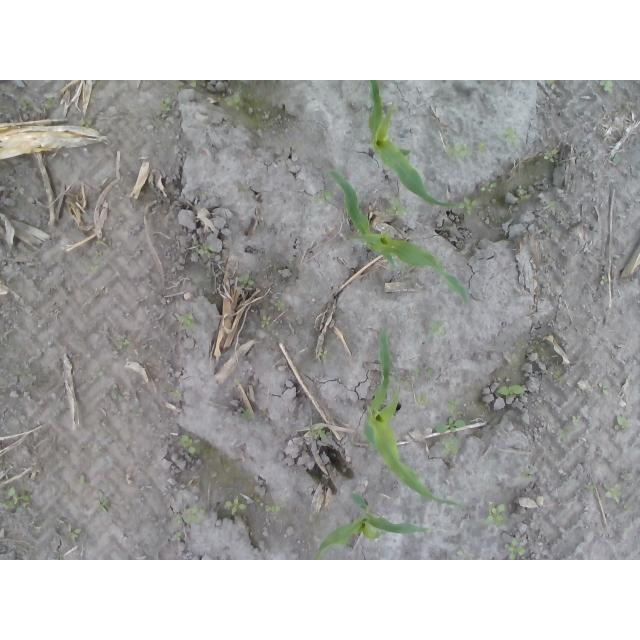Maize: (326, 166, 471, 307), (362, 327, 465, 510), (367, 81, 460, 212), (315, 490, 429, 560)
Weeds: (0, 486, 32, 514), (173, 506, 207, 527), (178, 434, 206, 458), (486, 501, 507, 527), (504, 538, 528, 560), (224, 496, 249, 517), (435, 416, 465, 433), (380, 199, 408, 217), (456, 196, 480, 216), (446, 143, 471, 162), (559, 415, 577, 441), (603, 481, 621, 503), (312, 189, 333, 207), (440, 438, 458, 458), (497, 384, 526, 396), (311, 423, 332, 439), (503, 127, 518, 149), (223, 95, 241, 113), (237, 272, 257, 288), (176, 311, 193, 329), (447, 398, 463, 417), (67, 524, 81, 545), (432, 320, 449, 337), (615, 415, 632, 432), (600, 80, 617, 97), (96, 497, 113, 514), (17, 99, 34, 114), (544, 149, 560, 164), (413, 366, 433, 378), (113, 337, 129, 352), (7, 192, 21, 209), (512, 191, 532, 202), (159, 96, 171, 113), (197, 242, 211, 256), (241, 408, 256, 421), (614, 150, 626, 166), (480, 182, 497, 193), (16, 369, 33, 379), (263, 504, 281, 513), (415, 392, 427, 405), (259, 316, 271, 329), (554, 370, 565, 384), (80, 118, 94, 129), (274, 298, 285, 312), (239, 80, 248, 97), (95, 368, 105, 383), (171, 389, 183, 401), (599, 382, 609, 396), (477, 139, 487, 153), (112, 384, 120, 400), (545, 80, 559, 89), (46, 98, 58, 108), (388, 103, 400, 113), (93, 443, 103, 454), (319, 349, 329, 360), (87, 263, 98, 273), (174, 531, 184, 542), (79, 473, 87, 486), (600, 275, 609, 286), (253, 496, 265, 504), (546, 200, 557, 208), (519, 472, 529, 480), (591, 484, 596, 497), (190, 80, 197, 88), (592, 91, 597, 97)
